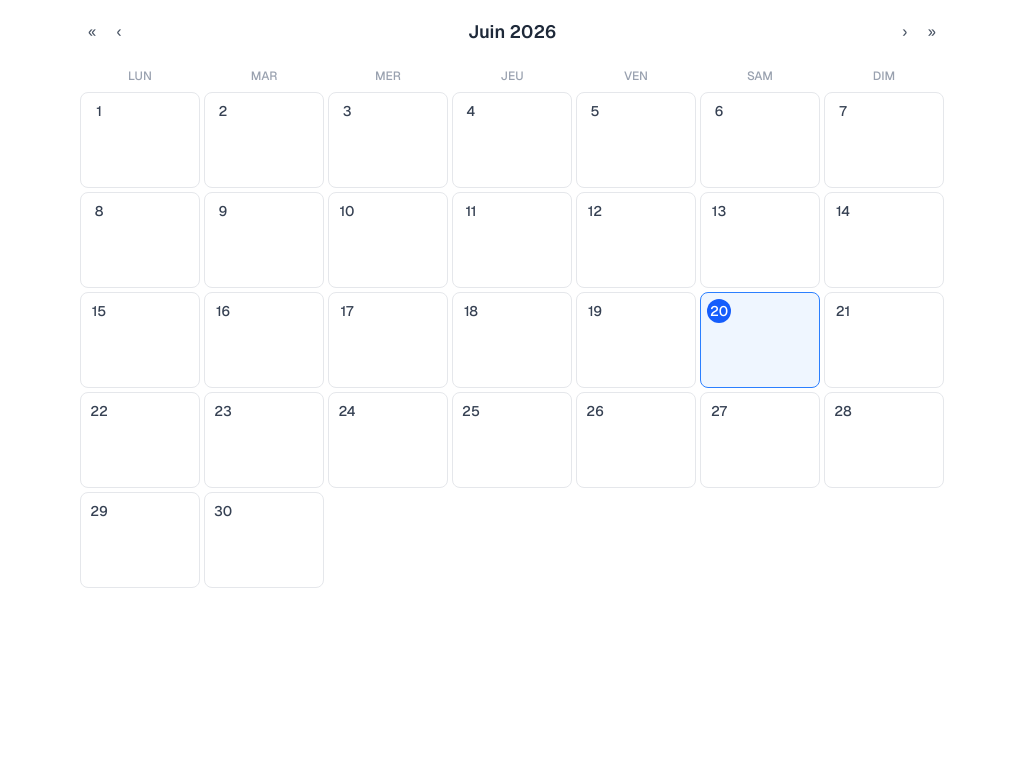
Test: Calendar › adds an event and displays it on the day after confirming in the modal
Click the button "1": (140,140) [80,92,200,188]
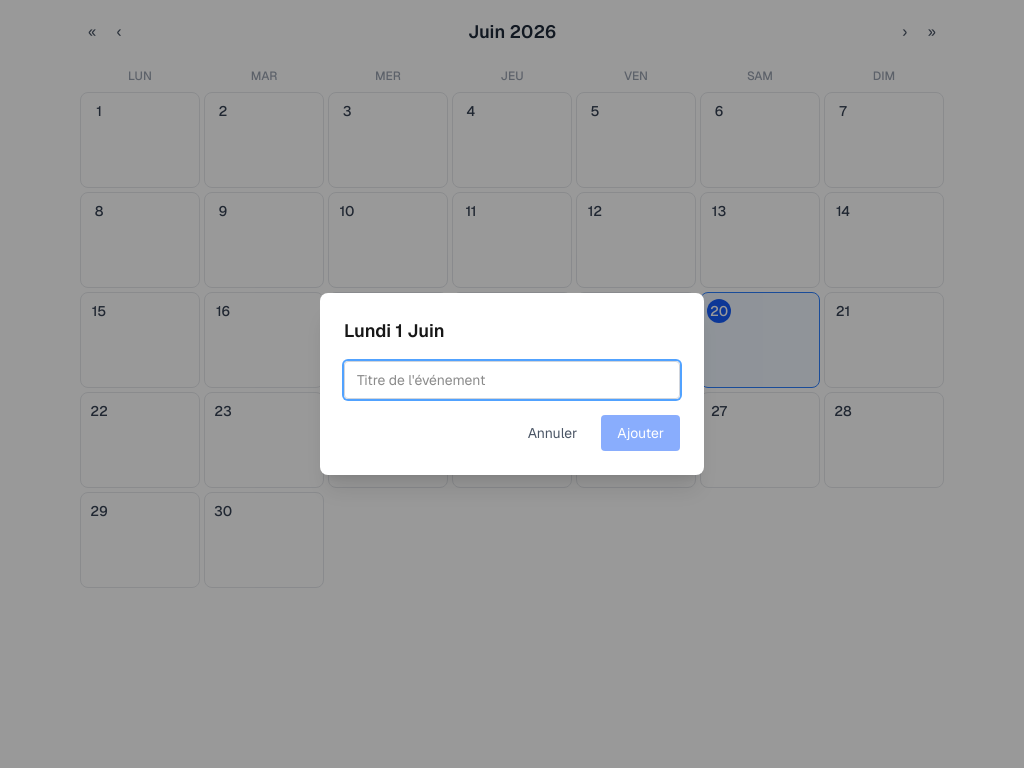
In the field: (512,380) [344,361,680,399], type "Test event"
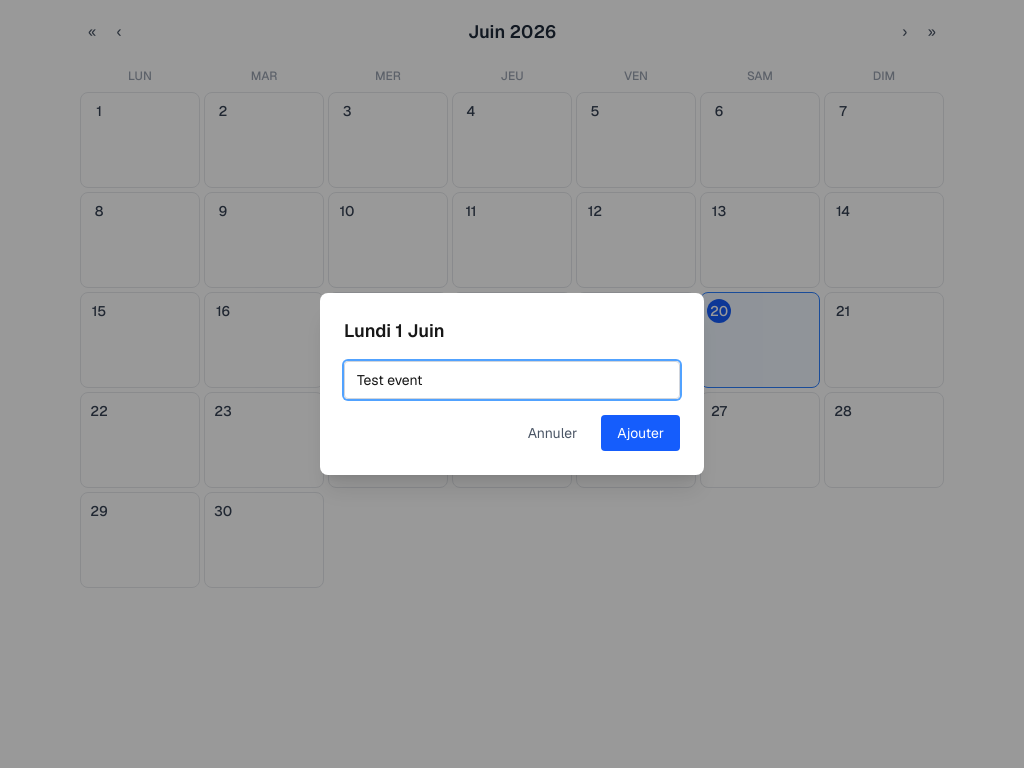
Click the button "Ajouter": (641,433) [601,415,680,451]
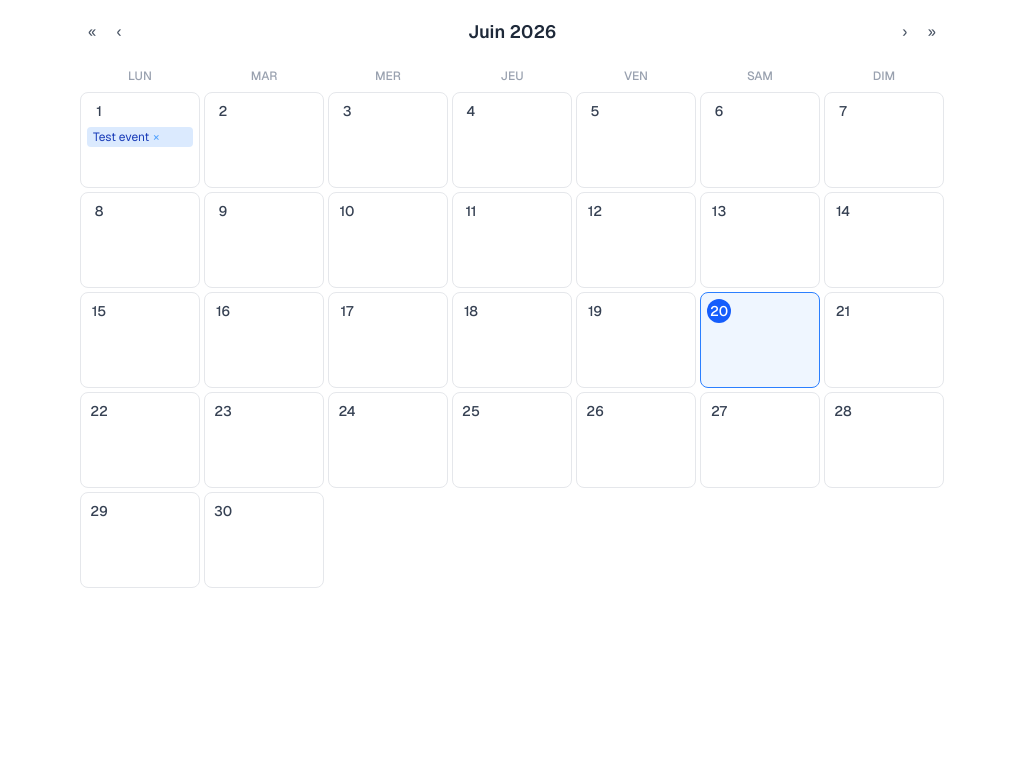
Result: the text "Test event" is shown at [93,129,149,145]
